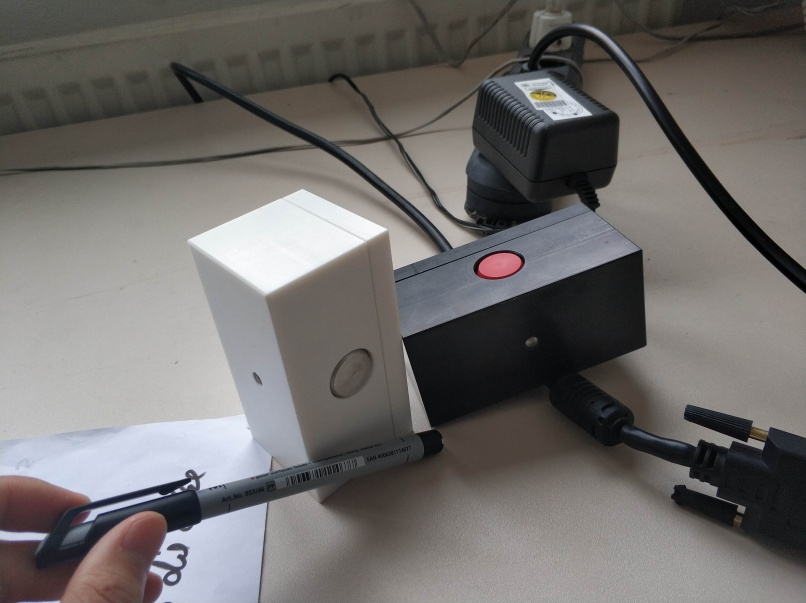black+black+red: (391, 201, 649, 429)
white+white+silver: (180, 185, 413, 472)
